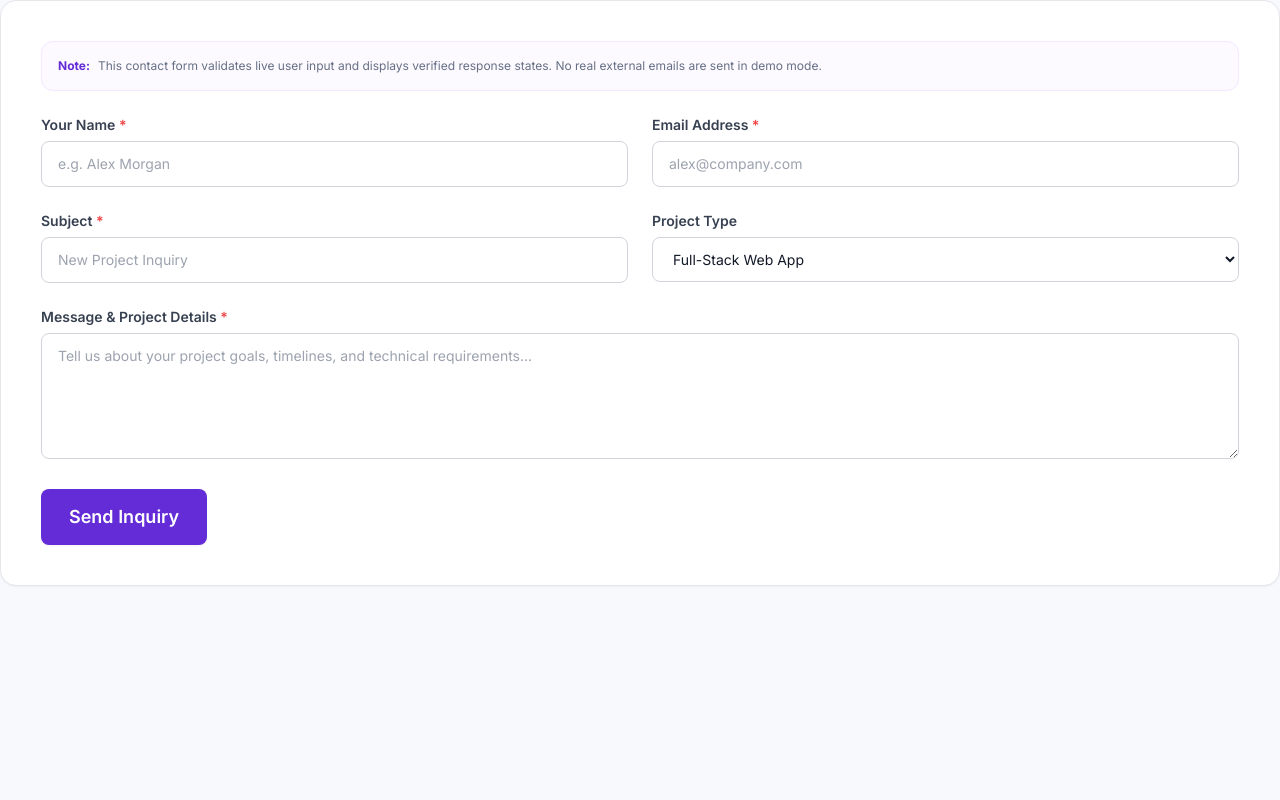
Contact Form Validation & Simulation › displays validation errors when submitting an empty form
The image size is (1280, 800).
Click the button "Send Inquiry" at (124, 517), box [41,489,207,545]
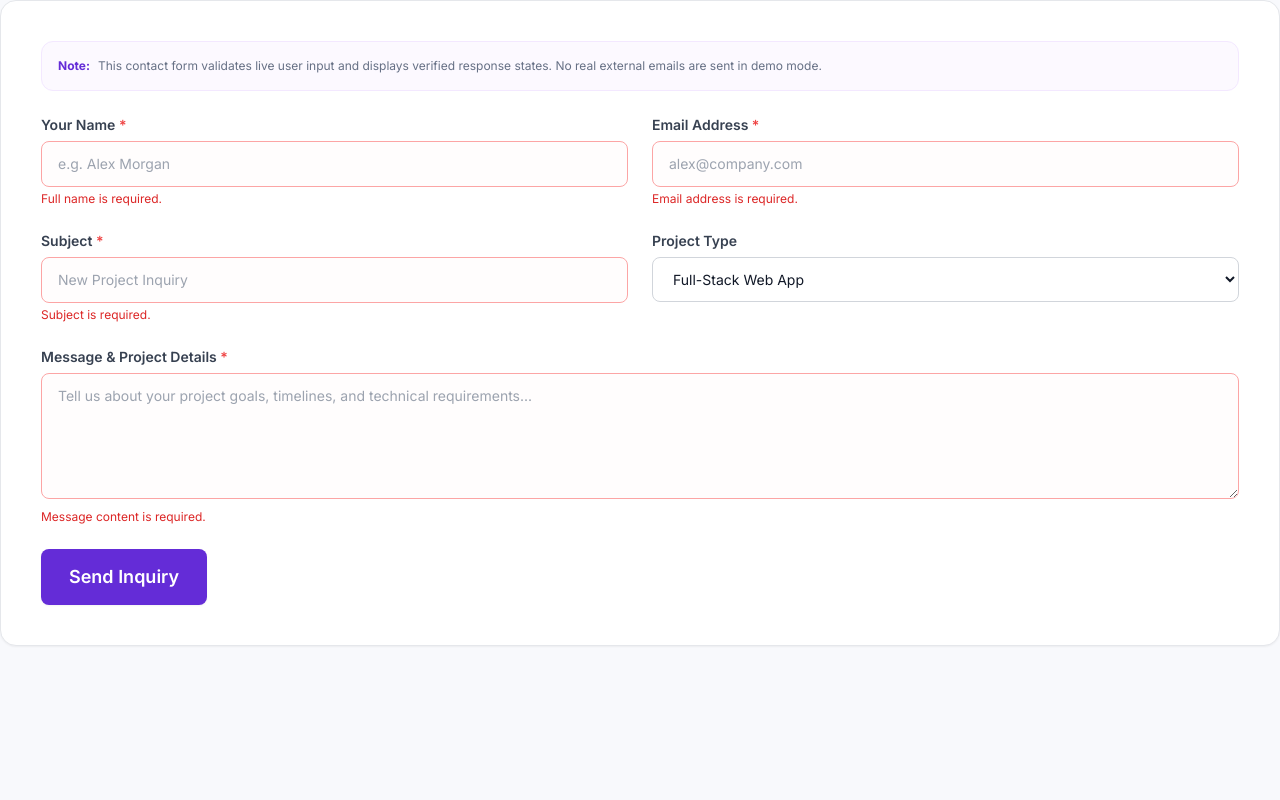
Expected: the text "Full name is required." is shown, [41,191,162,206]
Expected: the text "Email address is required." is shown, [652,191,798,206]
Expected: the text "Subject is required." is shown, [41,307,151,322]
